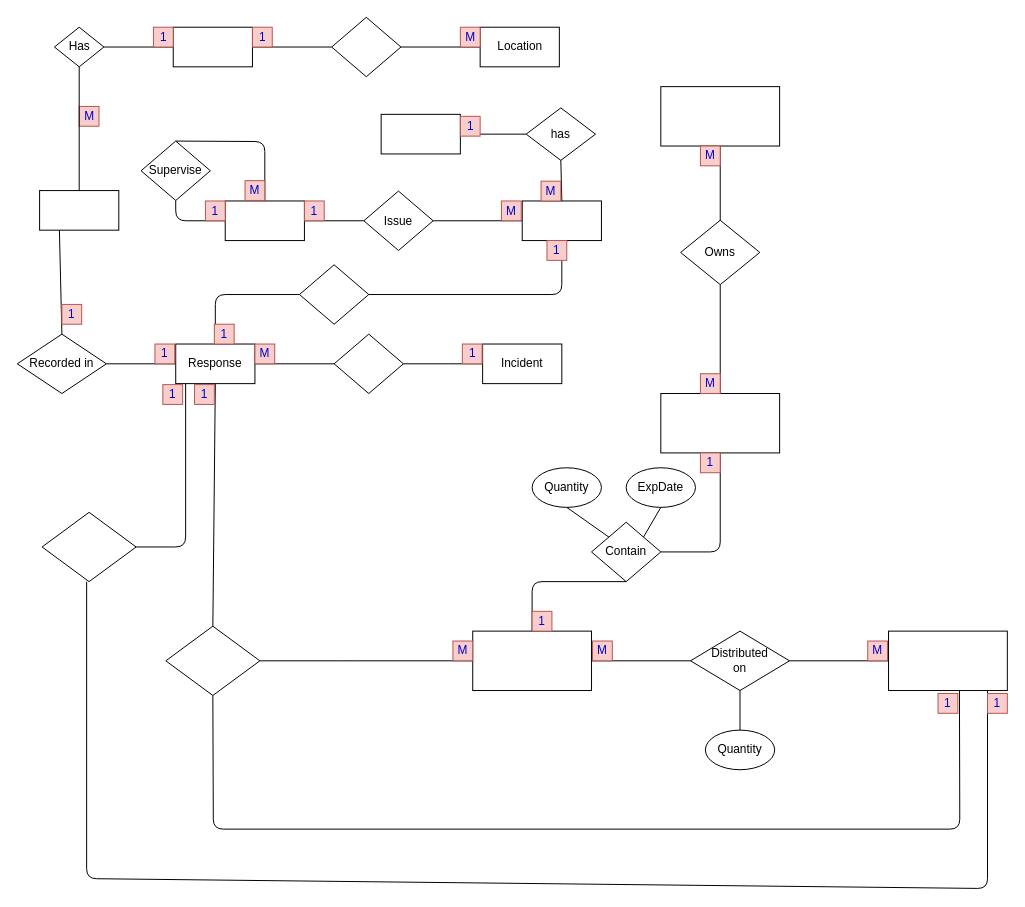
The diagram is 1025 pixels wide and 907 high, and some of its shapes have lost their labels. The centre of each missing label's shape, as x and y in pixels:
"Ambulance Vehicle" goes at (x=947, y=660).
"Associated Vehicle" goes at (x=88, y=546).
"Batch" goes at (x=532, y=660).
"Employee" goes at (x=264, y=220).
"Issued for" goes at (x=333, y=294).
"Lives in" goes at (x=366, y=46).
"Medical Record" goes at (x=79, y=210).
"Medicine" goes at (x=720, y=423).
"Medicine Used" goes at (x=212, y=660).
"Patient" goes at (x=212, y=46).
"Payment Method" goes at (x=420, y=133).
"PharmaCompany" goes at (x=720, y=116).
"Receipt" goes at (x=561, y=220).
"Sent For" goes at (x=368, y=363).
